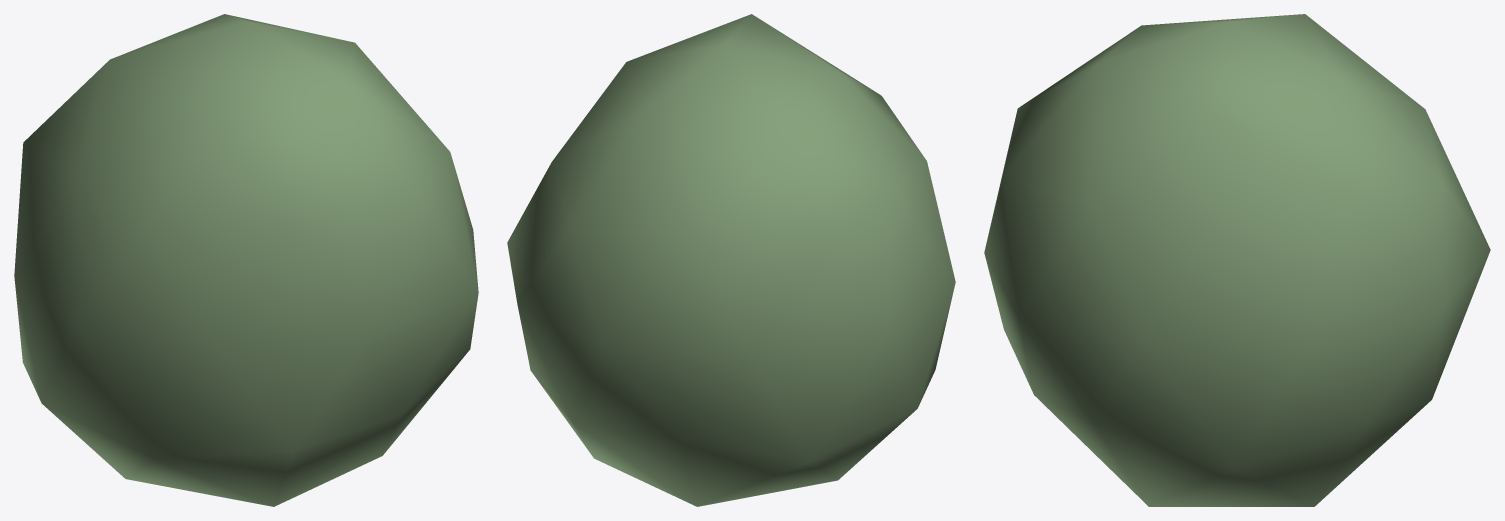
The model's file is bush.gltf.
The picture shows the model from 3 angles, left to right: view 1: azimuth 30°, elevation 25°; view 2: azimuth 150°, elevation 25°; view 3: azimuth 270°, elevation 25°; orthographic projection. The views are drawn at different scales.
Visible parts, largest first — view 1: bush; view 2: bush; view 3: bush.
Boxes of the visible parts, x1,y1,x2,y2 form: bush: [14, 14, 478, 506]; bush: [507, 14, 955, 506]; bush: [984, 14, 1490, 506].
Size of the model in its own units: 0.8411 by 0.8686 by 0.9115.
